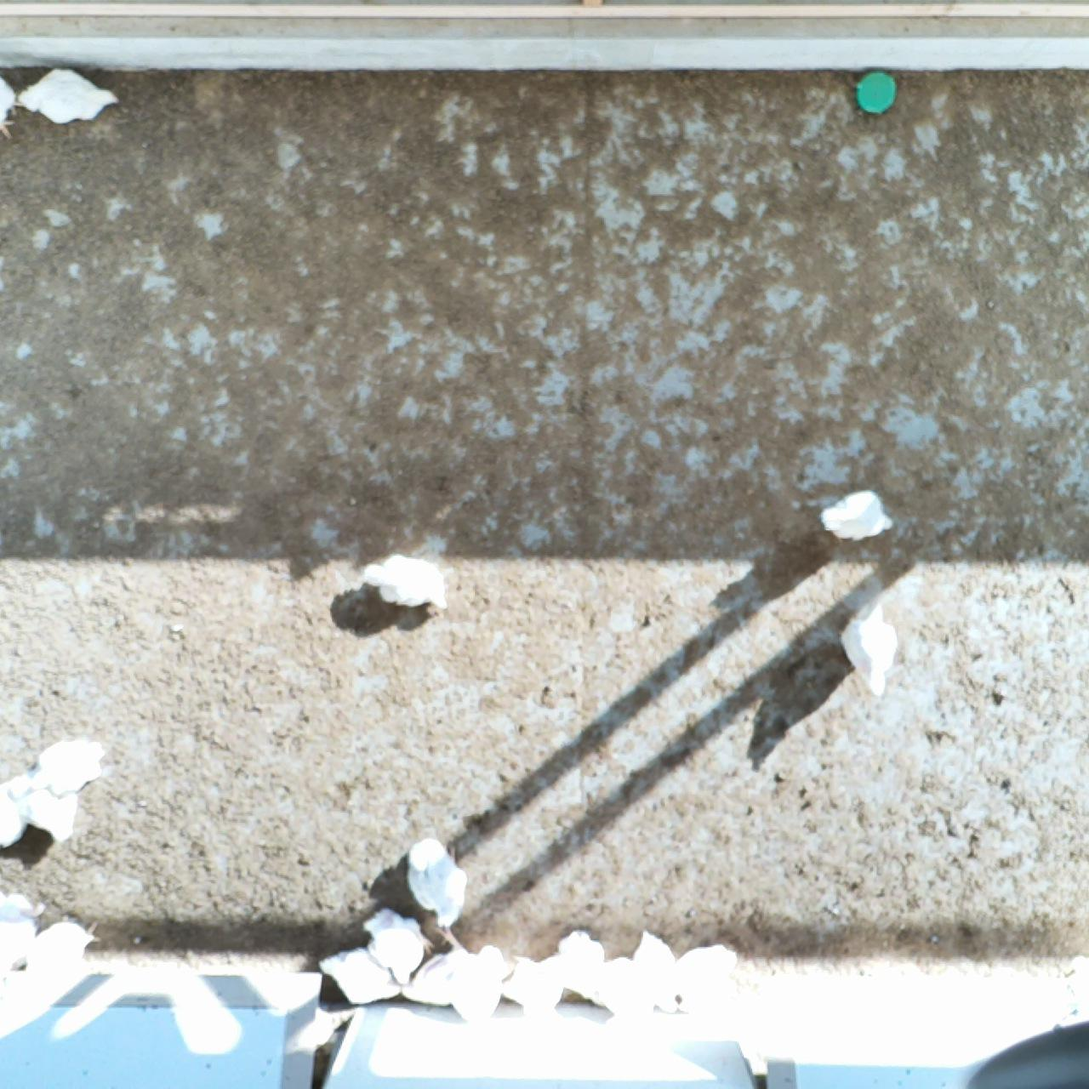chicken: (401, 924, 477, 1006), (17, 66, 121, 125), (363, 550, 453, 618), (839, 597, 898, 699), (359, 905, 432, 986), (11, 737, 107, 798), (407, 835, 470, 924), (319, 946, 403, 1007), (675, 943, 741, 1013), (11, 777, 81, 842), (629, 929, 679, 1013), (457, 944, 510, 1022), (496, 949, 561, 1011), (818, 487, 894, 540), (27, 919, 104, 968), (583, 952, 645, 1012), (556, 928, 597, 1001), (0, 773, 34, 847), (0, 921, 38, 974), (0, 888, 49, 926), (0, 71, 24, 143)
